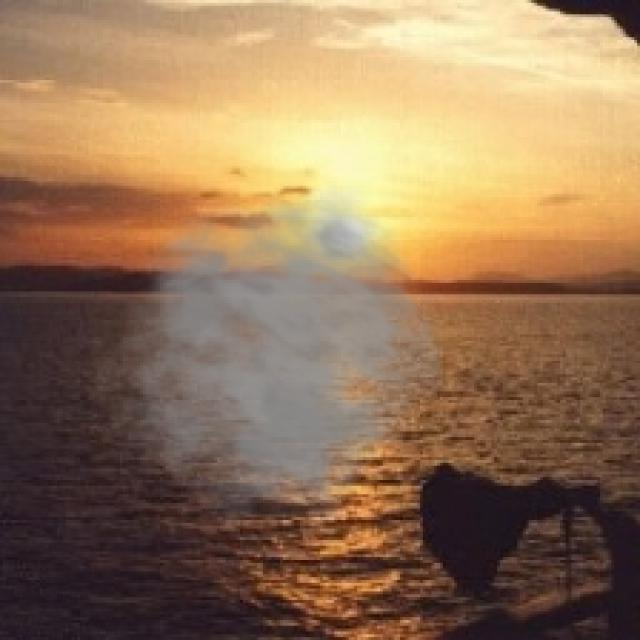Smoke: (88, 185, 446, 540)
